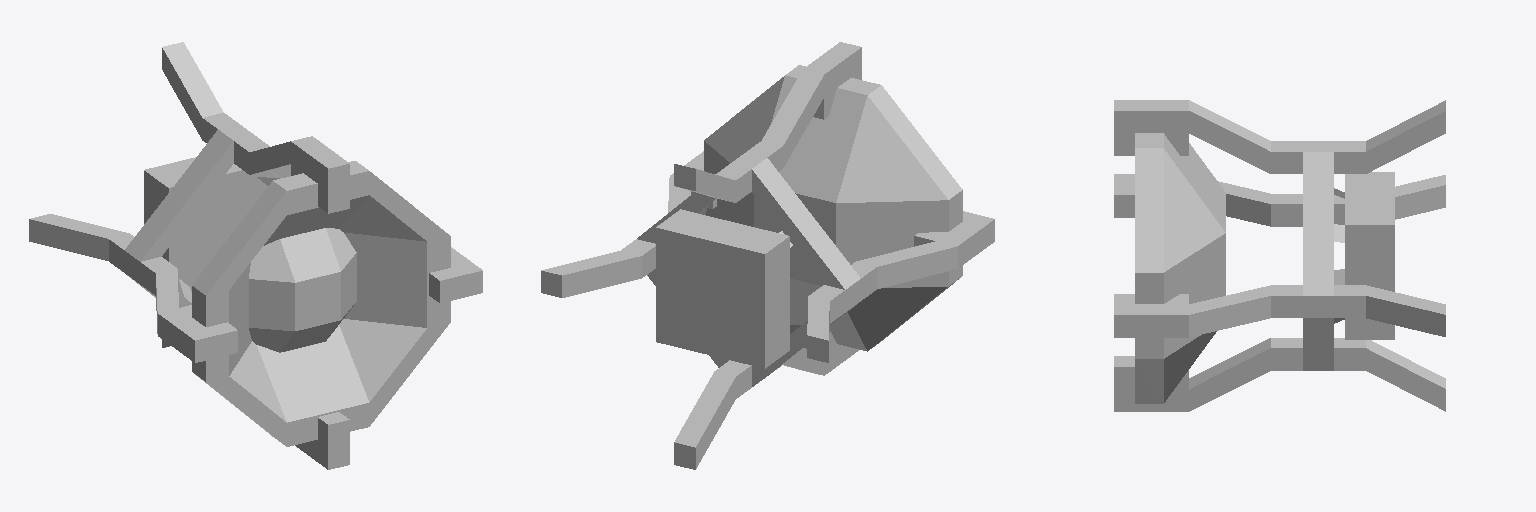
File: calcinator.obj
3 renders of one model, left to right at view 1: azimuth 30°, elevation 25°; view 2: azimuth 150°, elevation 25°; view 3: azimuth 270°, elevation 25°, orthographic.
Visible parts, largest first — view 1: calcinator, dust; view 2: calcinator; view 3: calcinator.
Part boxes in pixels (bbox=[...]): calcinator: bbox=[29, 42, 482, 469]; dust: bbox=[249, 228, 356, 352]; calcinator: bbox=[541, 42, 994, 469]; calcinator: bbox=[1114, 100, 1445, 411].
Size of the model in its own units: 1 by 1 by 1.